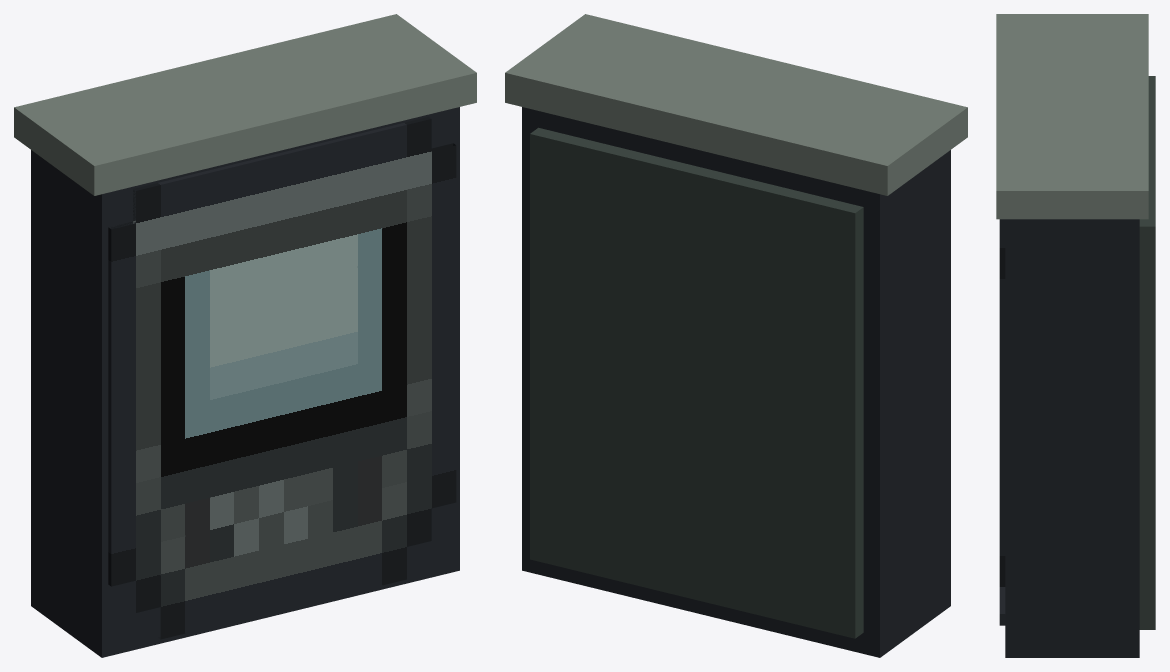
Rendered from CMU3DInteriorVehicleViewportUnanchored.glb.
The picture shows the model from 3 angles, left to right: view 1: azimuth 30°, elevation 25°; view 2: azimuth 150°, elevation 25°; view 3: azimuth 270°, elevation 25°; orthographic projection. The views are drawn at different scales.
Parts seen in each view (by area): view 1: source equipment controls, closed equipment casing, reinforced top; view 2: rear service plate, closed equipment casing, reinforced top; view 3: closed equipment casing, reinforced top, rear service plate, source equipment controls.
Part boxes in pixels (left/top/right/bottom): source equipment controls: left=108, top=116, right=456, bottom=639; closed equipment casing: left=31, top=107, right=459, bottom=657; reinforced top: left=14, top=14, right=476, bottom=195; rear service plate: left=530, top=127, right=863, bottom=638; closed equipment casing: left=522, top=107, right=950, bottom=657; reinforced top: left=505, top=14, right=967, bottom=195; closed equipment casing: left=1005, top=219, right=1139, bottom=657; reinforced top: left=996, top=14, right=1148, bottom=219; rear service plate: left=1139, top=76, right=1155, bottom=629; source equipment controls: left=999, top=219, right=1005, bottom=625.
Size of the model in its own units: 0.4675 by 0.5819 by 0.178.
4 materials, 1 textured.
